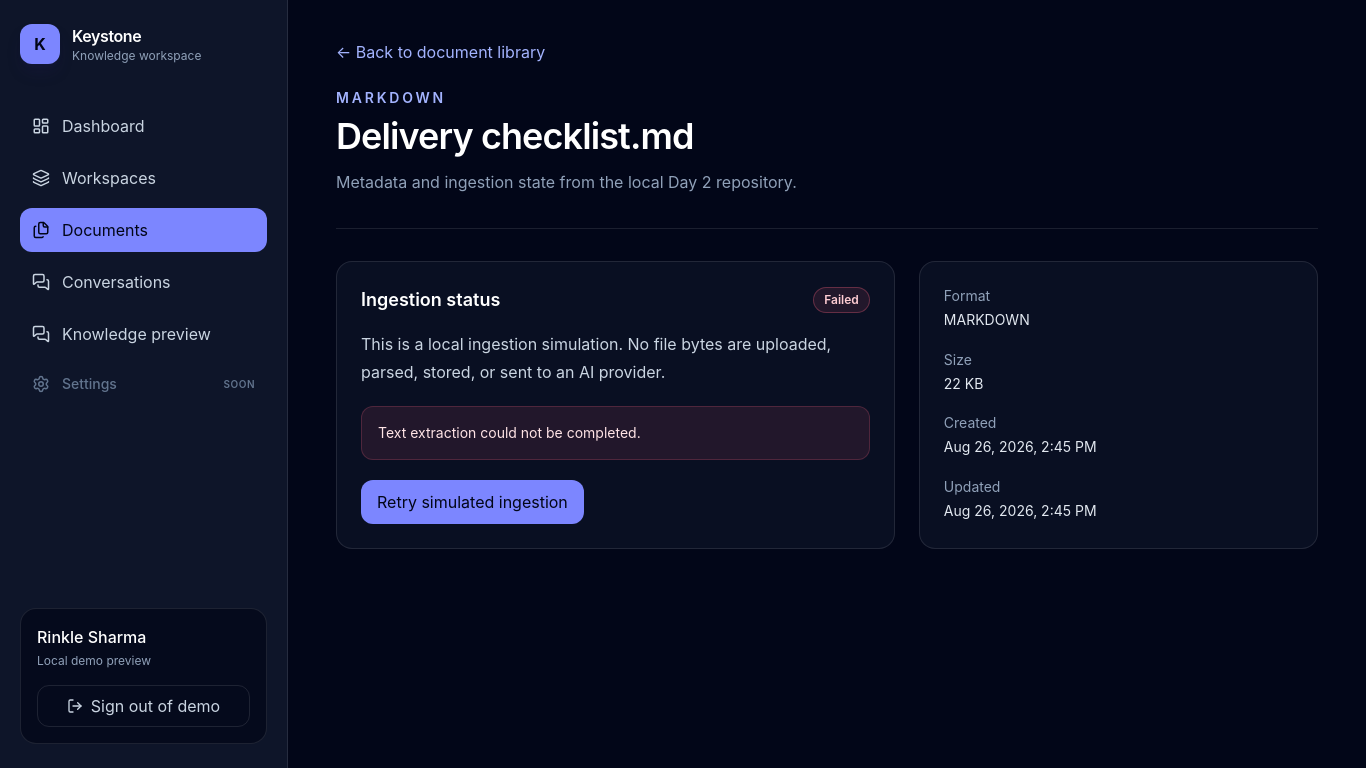
it: document library and detail routes › renders direct document details and retries a failed local simulation
This screenshot has width=1366, height=768.
Expected: the heading "Delivery checklist.md" is shown, [336, 114, 694, 158]
Expected: the text "Failed" is shown, [813, 287, 870, 313]
What coordinates should you click on to do the following:
click the button "Retry simulated ingestion"
I would click on:
 (472, 502)
Its box is [361, 480, 584, 524].
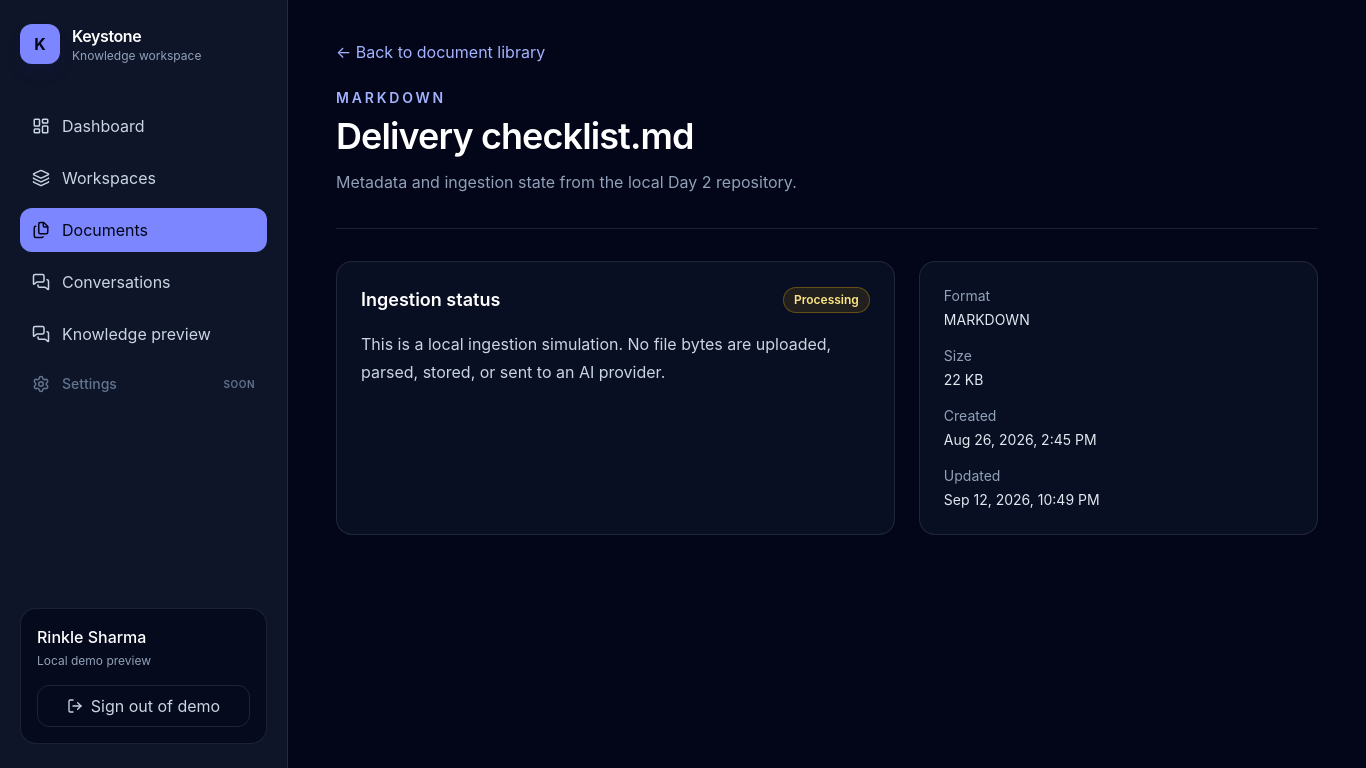
Expected: the text "Processing" is shown, [783, 287, 870, 313]
Expected: the button "Retry simulated ingestion" is gone
